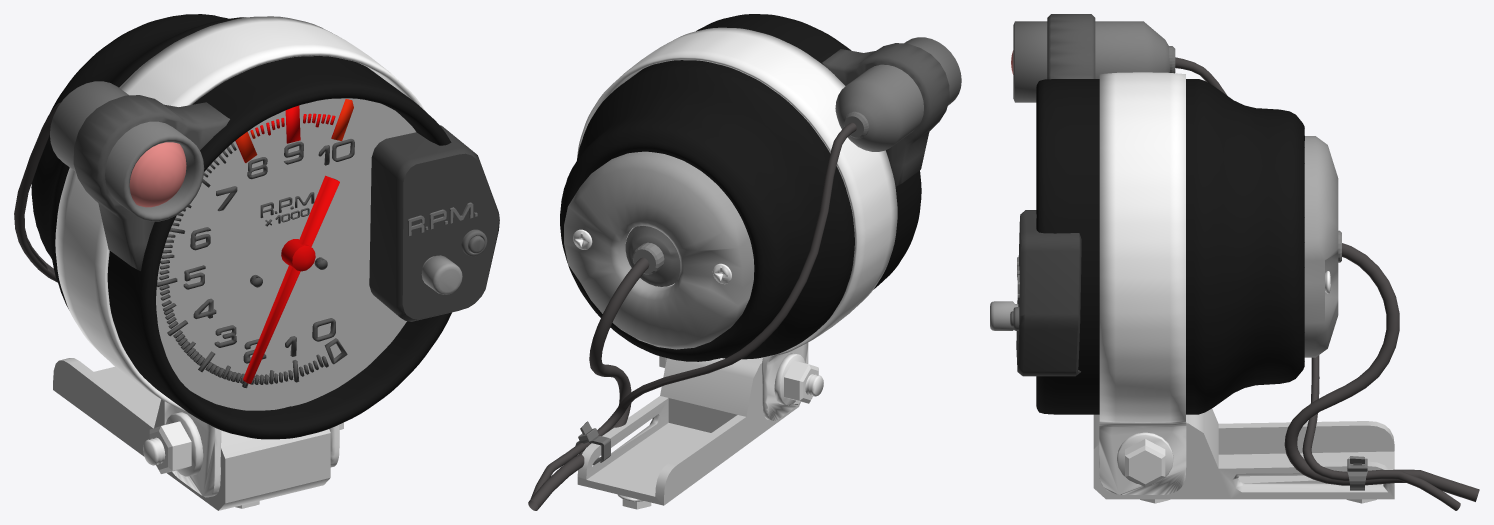
Rendered from tachometer.glb.
The picture shows the model from 3 angles, left to right: view 1: azimuth 30°, elevation 25°; view 2: azimuth 150°, elevation 25°; view 3: azimuth 270°, elevation 25°; orthographic projection. The views are drawn at different scales.
Size of the model in its own units: 20.34 by 23.45 by 25.3.
